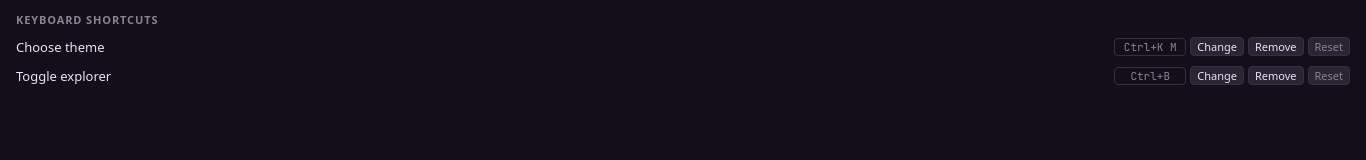
Scenario: records a single key after a short wait
Click the button with aria-label "Change shortcut for Toggle explorer" at {"x": 1217, "y": 76}, box [1190,66,1244,85]
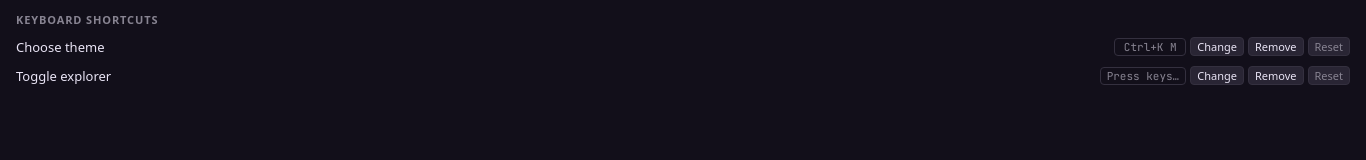
Press Shift
Press e
Wait 1000 ms
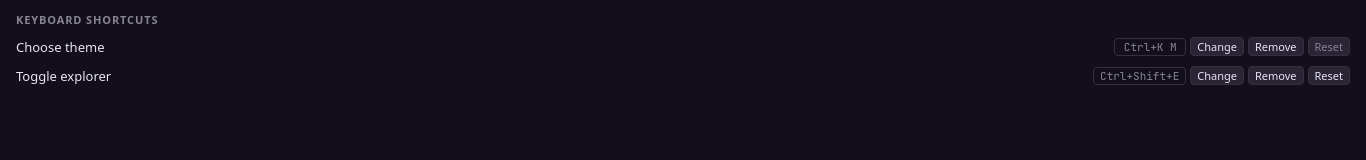
Check: the button with aria-label "Reset shortcut for Toggle explorer" is enabled, box [1308,66,1350,85]
